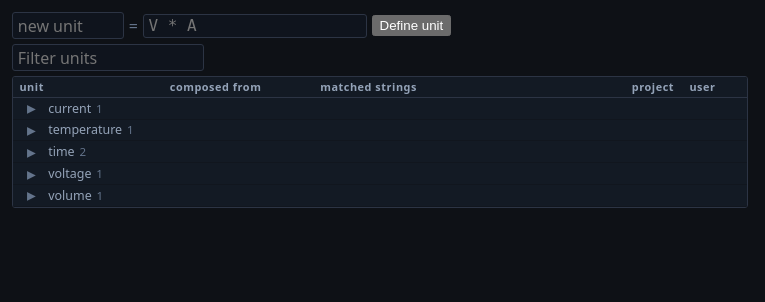
Scenario: the units section › lists every base unit the library carries, with its dimension
The image size is (765, 302).
Click the button "▸" next to "voltage". click: (31,174)
box: [19,165,43,182]
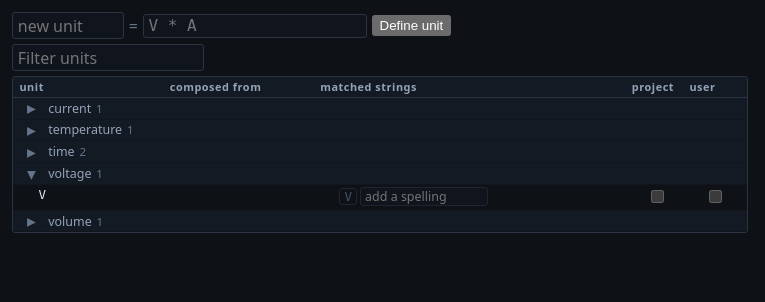
Expected: the list item "V" is shown, [39,187,46,202]
Click the button "▸" next to "temperature". click: (31,130)
box: [19,121,43,139]
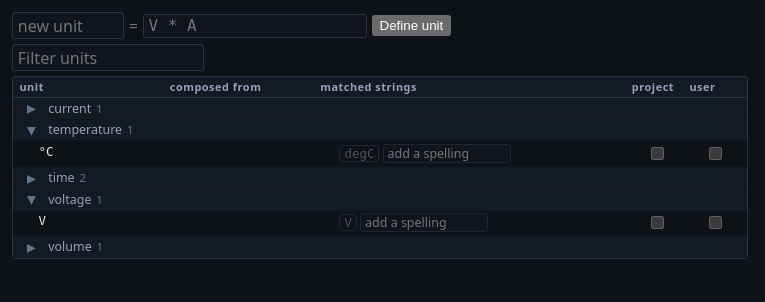
Expected: the list item "°C" is shown, [39,144,54,159]
Click the button "▸" next to "current". click: (31,108)
box: [19,99,43,117]
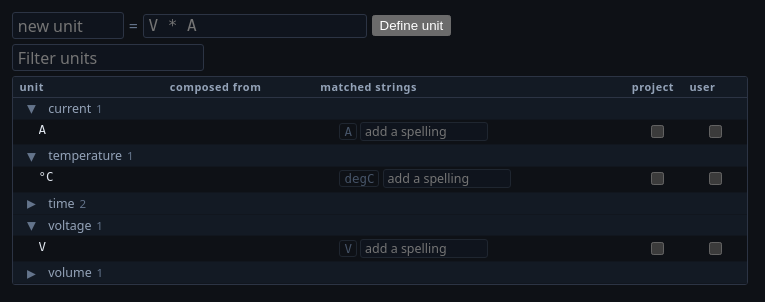
Expected: the text with class "unit-customization-dimension" reads "temperature", [48,147,122,164]
Expected: the list item "A" is shown, [39,122,46,137]
